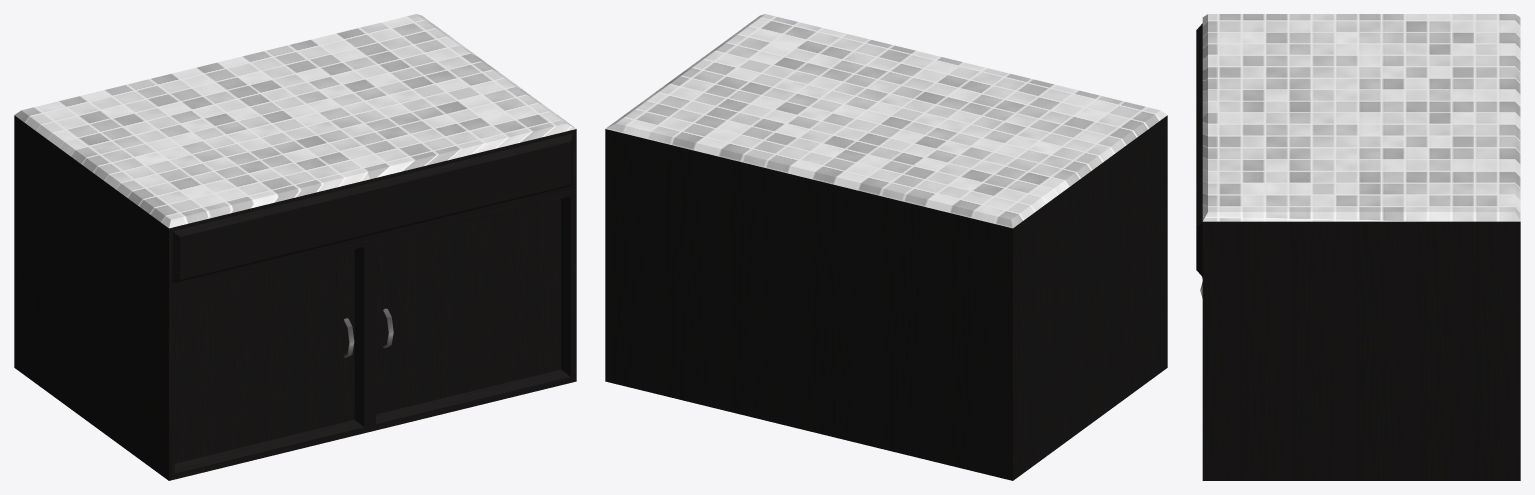
Rendered from Kitchen_Counter_C_3_2.FBX.
The picture shows the model from 3 angles, left to right: view 1: azimuth 30°, elevation 25°; view 2: azimuth 150°, elevation 25°; view 3: azimuth 270°, elevation 25°; orthographic projection. The views are drawn at different scales.
Parts seen in each view (by area): view 1: Counter_A_3; view 2: Counter_A_3; view 3: Counter_A_3.
Boxes of the visible parts, x1=… form: Counter_A_3: x1=14, y1=14, x2=576, y2=480; Counter_A_3: x1=605, y1=14, x2=1167, y2=480; Counter_A_3: x1=1196, y1=14, x2=1520, y2=480.
Bounding box in the file's own units: 228 × 138 × 153.
